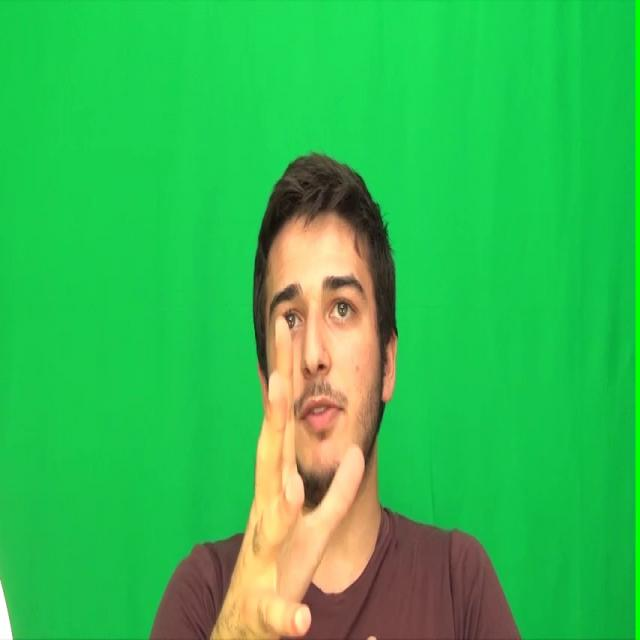Engaged: (268, 210, 378, 470)
